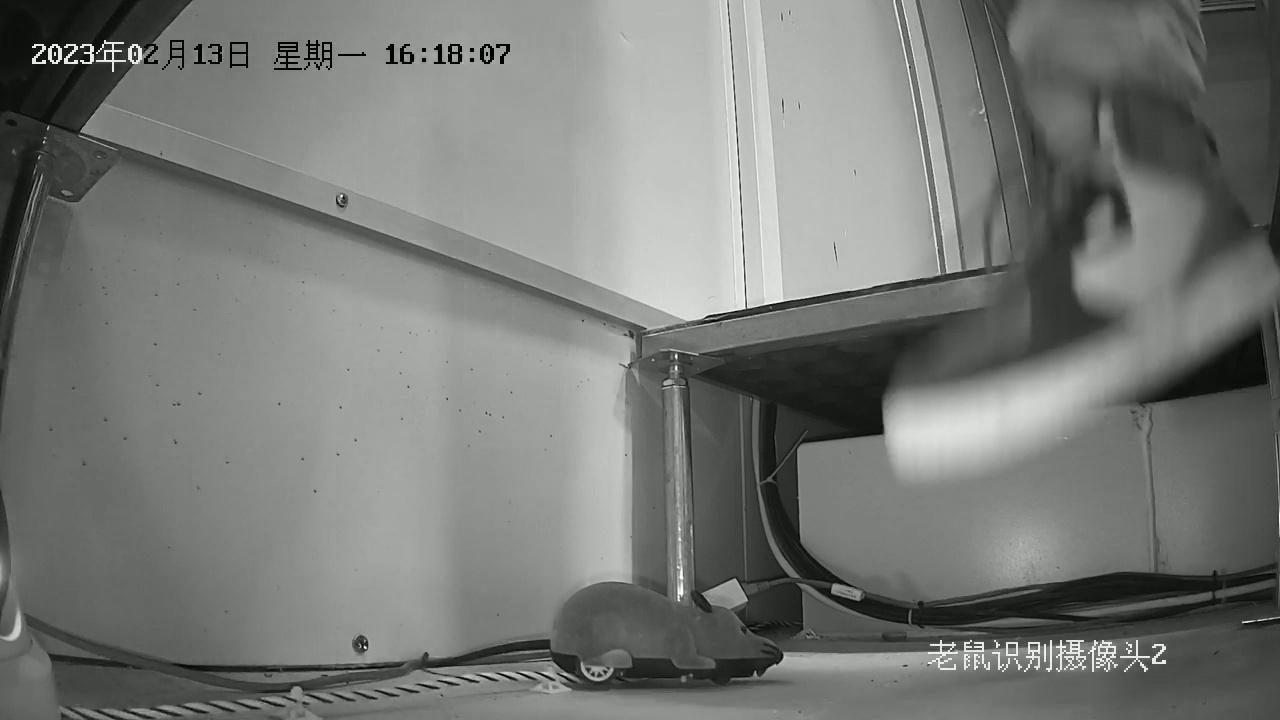rat: (422, 580, 784, 687)
